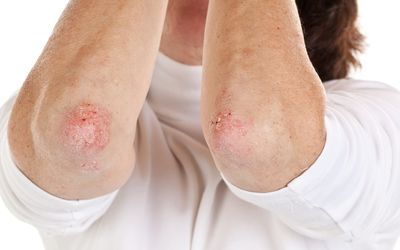Diseased: (38, 68, 275, 177)
